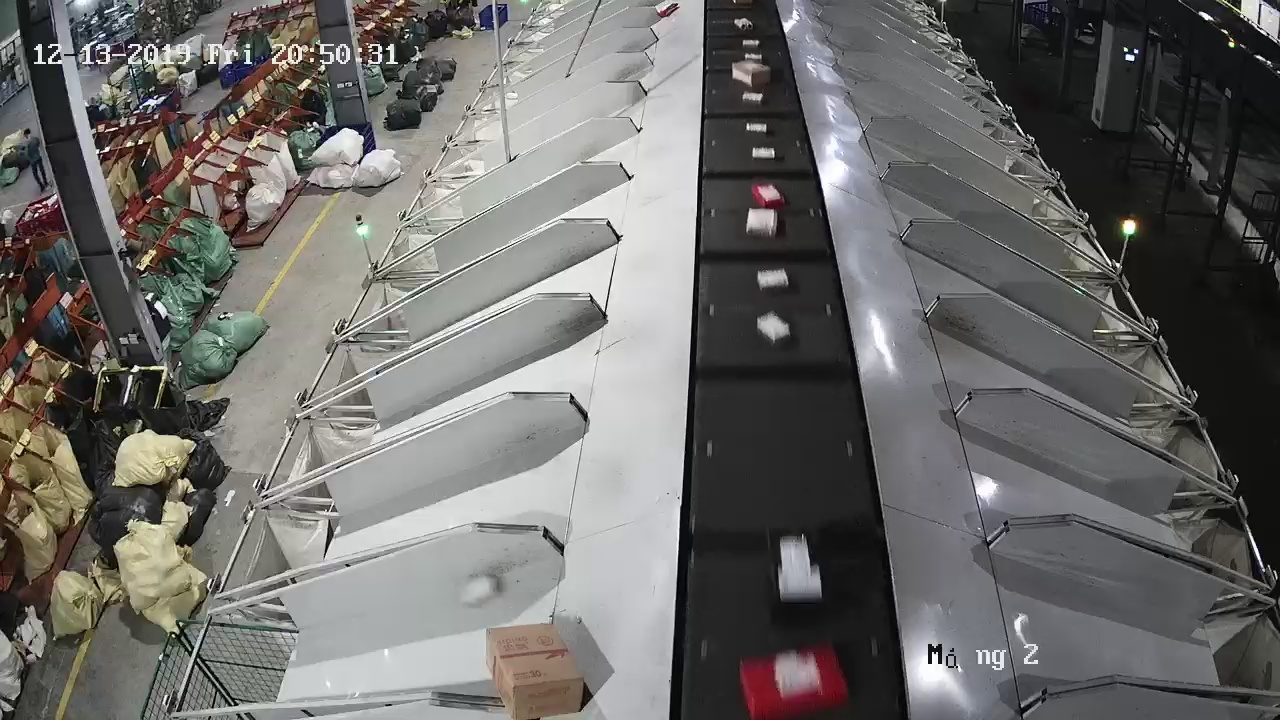parcel: (456, 573, 498, 606)
